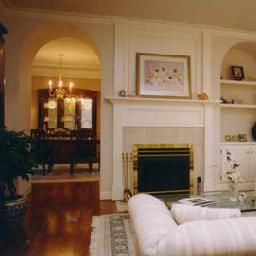Matera: (4, 133, 40, 250)
